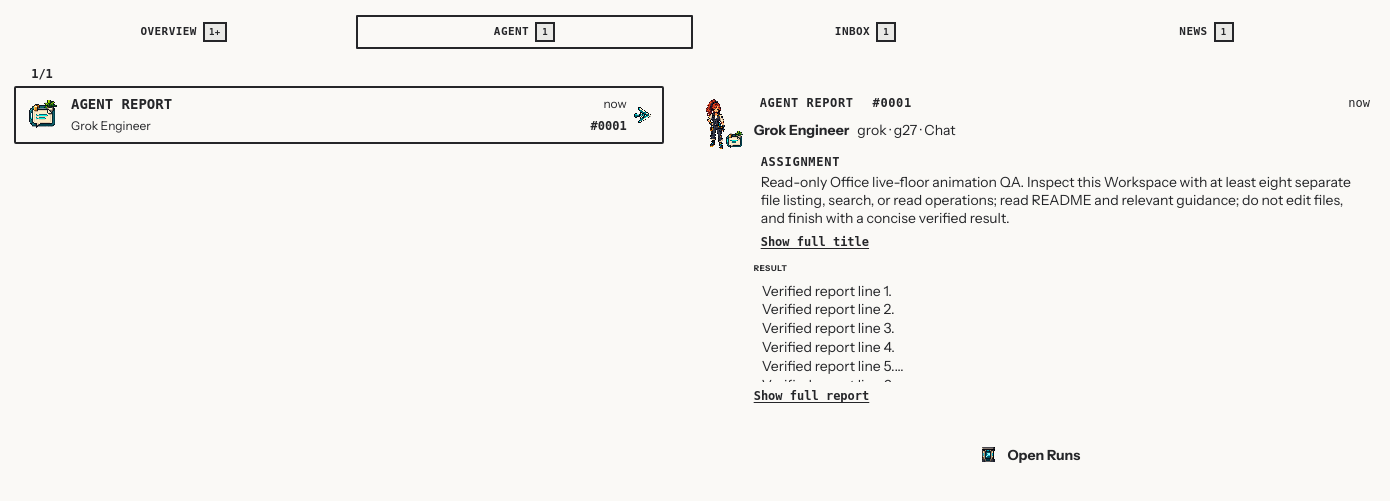
OfficeRuntimeSection › keeps a long Assignment as the single focused reading disclosure
Expected: the button "Agent report now Grok Engineer #0001" is shown, [14, 86, 664, 144]
Click the button "Show full title". click: (815, 242)
box: [761, 232, 869, 252]
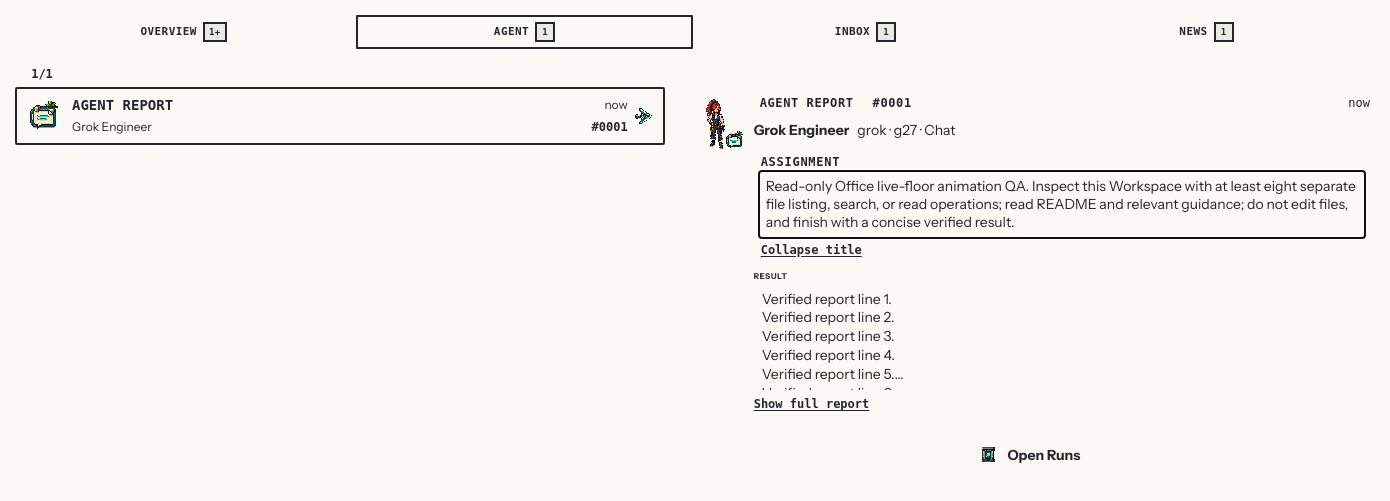
Result: the text named "Assignment" has attribute data-expanded="true" at [761, 173, 1363, 236]
Click the button "Show full report". click: (812, 404)
box: [754, 394, 869, 414]
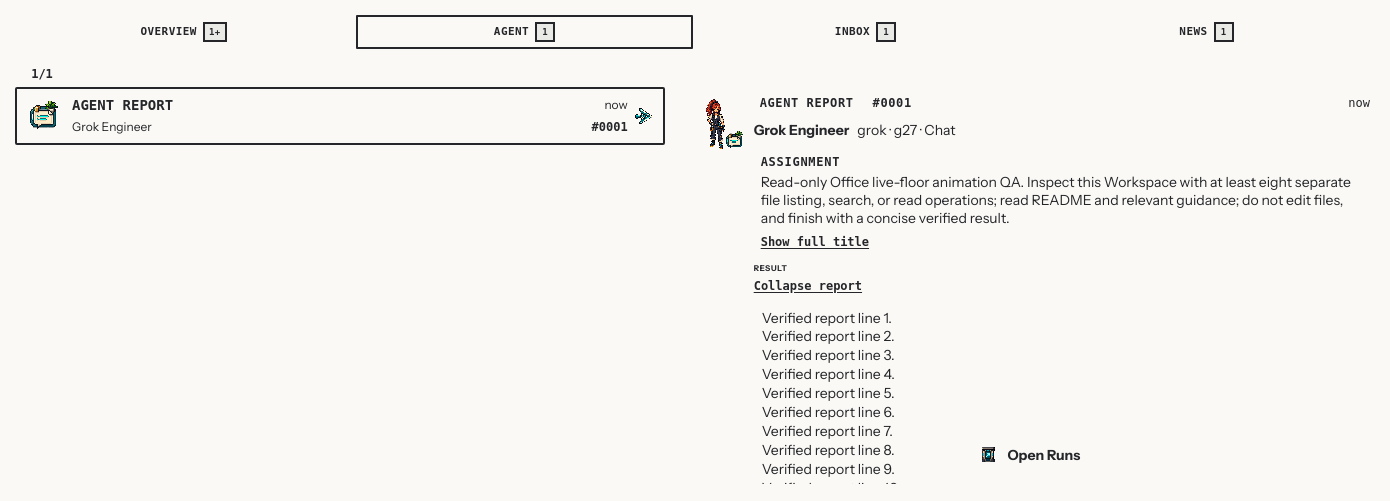
Result: the text named "Assignment" does not have attribute data-expanded at [761, 173, 1363, 228]
Result: the button "Collapse report" is shown at [754, 276, 862, 296]
Click the button "Show full title". click: (815, 242)
box: [761, 232, 869, 252]
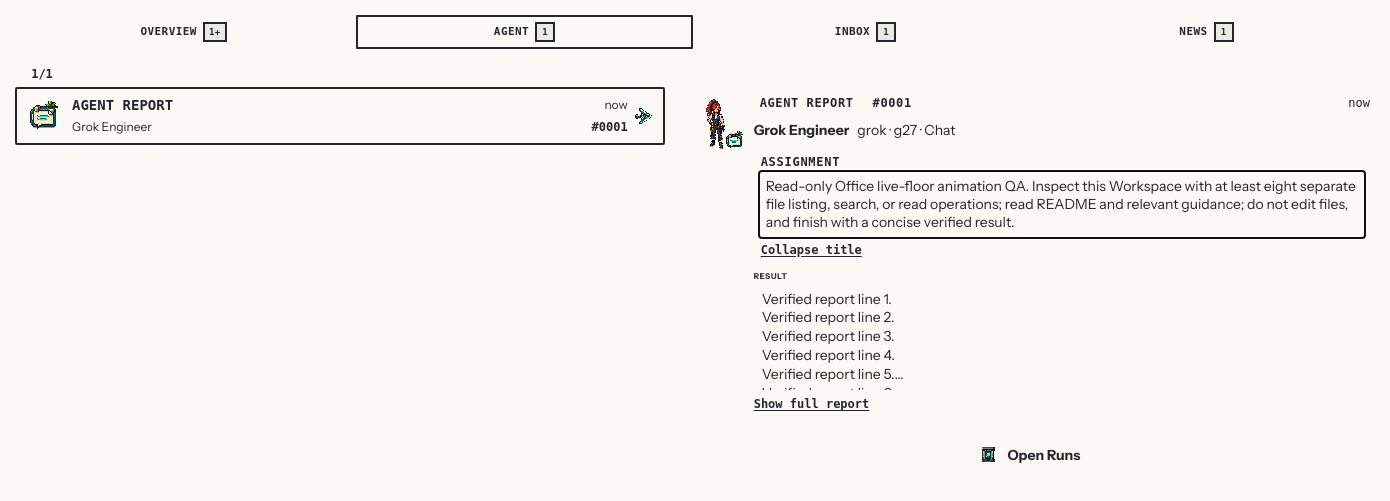
Result: the button "Collapse report" is gone
Press Escape
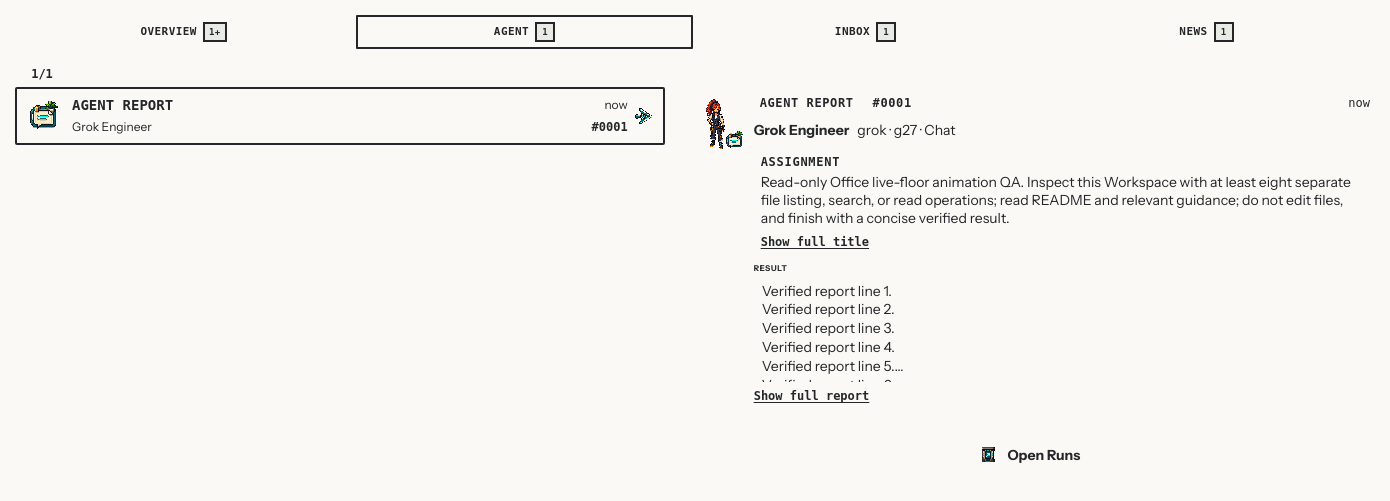
Result: the text named "Assignment" does not have attribute data-expanded at [761, 173, 1363, 228]
